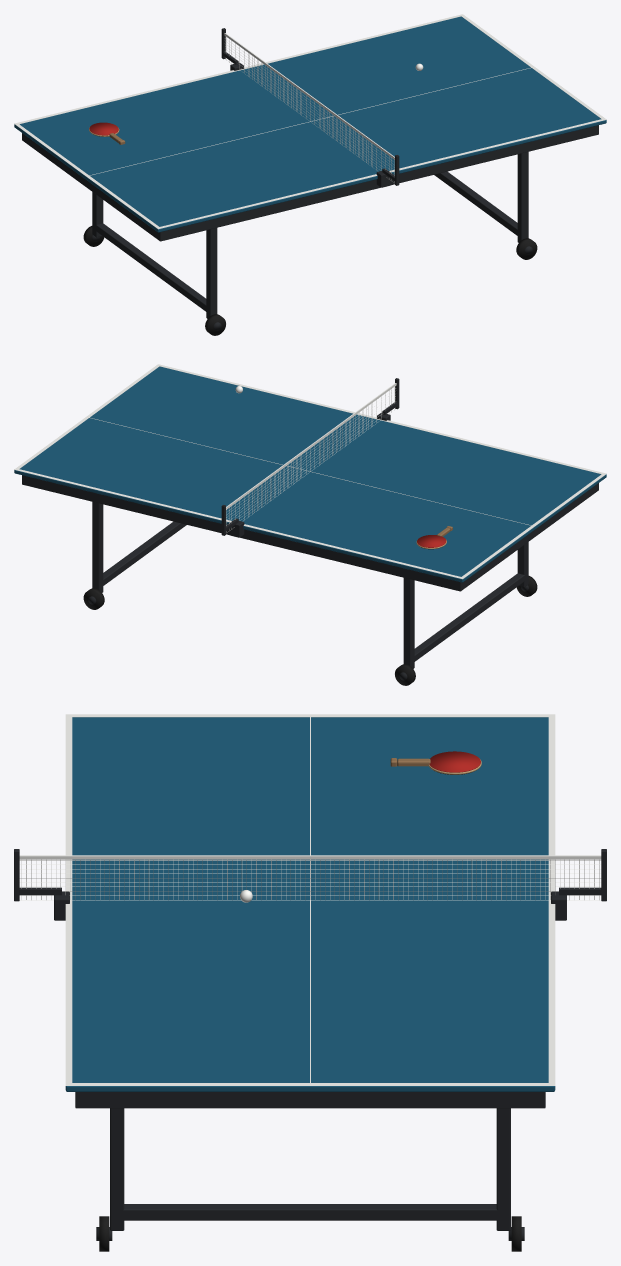
Rendered from table.glb.
The picture shows the model from 3 angles, top to bottom: view 1: azimuth 30°, elevation 25°; view 2: azimuth 150°, elevation 25°; view 3: azimuth 270°, elevation 25°; orthographic projection. The views are drawn at different scales.
Parts seen in each view (by area): view 1: Table_Top, Table_Skirt_2, Net_Mesh, Table_Brace_L, Table_Line_Long_1, Table_Line_Long_2, Table_Skirt_4, Table_Brace_R, Table_Leg_3, Table_Leg_1, Net_Tape, Table_Line_Short_1 (+2 smaller); view 2: Table_Top, Table_Skirt_1, Net_Mesh, Table_Brace_L, Table_Line_Long_2, Table_Skirt_4, Table_Line_Long_1, Table_Brace_R, Table_Leg_4, Table_Leg_2, Net_Tape, Table_Line_Short_2 (+2 smaller); view 3: Table_Top, Net_Mesh, Table_Skirt_3, Table_Brace_R, Net_Tape, Table_Line_Long_1, Table_Line_Long_2, Table_Line_Short_2, Table_Leg_3, Table_Leg_4, Table_Line_Short_1, Paddle_Rubber_Front.
Part boxes in pixels (x1,y1,x2,y2): Table_Top: (14, 16, 606, 232); Table_Skirt_2: (157, 125, 598, 241); Net_Mesh: (225, 36, 394, 182); Table_Brace_L: (96, 223, 206, 311); Table_Line_Long_1: (14, 14, 463, 124); Table_Line_Long_2: (157, 119, 606, 229); Table_Skirt_4: (24, 135, 165, 240); Table_Brace_R: (434, 171, 517, 235); Table_Leg_3: (517, 152, 528, 242); Table_Leg_1: (206, 228, 217, 318); Net_Tape: (224, 33, 394, 159); Table_Line_Short_1: (460, 14, 605, 120); Table_Top: (14, 366, 606, 582); Table_Skirt_1: (27, 476, 463, 591); Net_Mesh: (226, 386, 395, 532); Table_Brace_L: (413, 573, 526, 662); Table_Line_Long_2: (156, 364, 605, 474); Table_Skirt_4: (455, 483, 598, 591); Table_Line_Long_1: (14, 469, 463, 578); Table_Brace_R: (103, 521, 186, 585); Table_Leg_4: (92, 502, 103, 592); Table_Leg_2: (403, 578, 414, 668); Net_Tape: (226, 383, 396, 509); Table_Line_Short_2: (460, 473, 606, 579); Table_Top: (65, 717, 555, 1091); Net_Mesh: (19, 859, 601, 900); Table_Skirt_3: (75, 1092, 545, 1108); Table_Brace_R: (118, 1204, 502, 1220); Net_Tape: (19, 855, 601, 859); Table_Line_Long_1: (548, 714, 555, 1085); Table_Line_Long_2: (65, 714, 72, 1085); Table_Line_Short_2: (66, 714, 554, 717); Table_Leg_3: (110, 1108, 124, 1230); Table_Leg_4: (496, 1108, 510, 1230); Table_Line_Short_1: (67, 1083, 551, 1085); Paddle_Rubber_Front: (429, 751, 480, 772).
Size of the model in its own units: 2.74 by 1.05 by 1.85.
